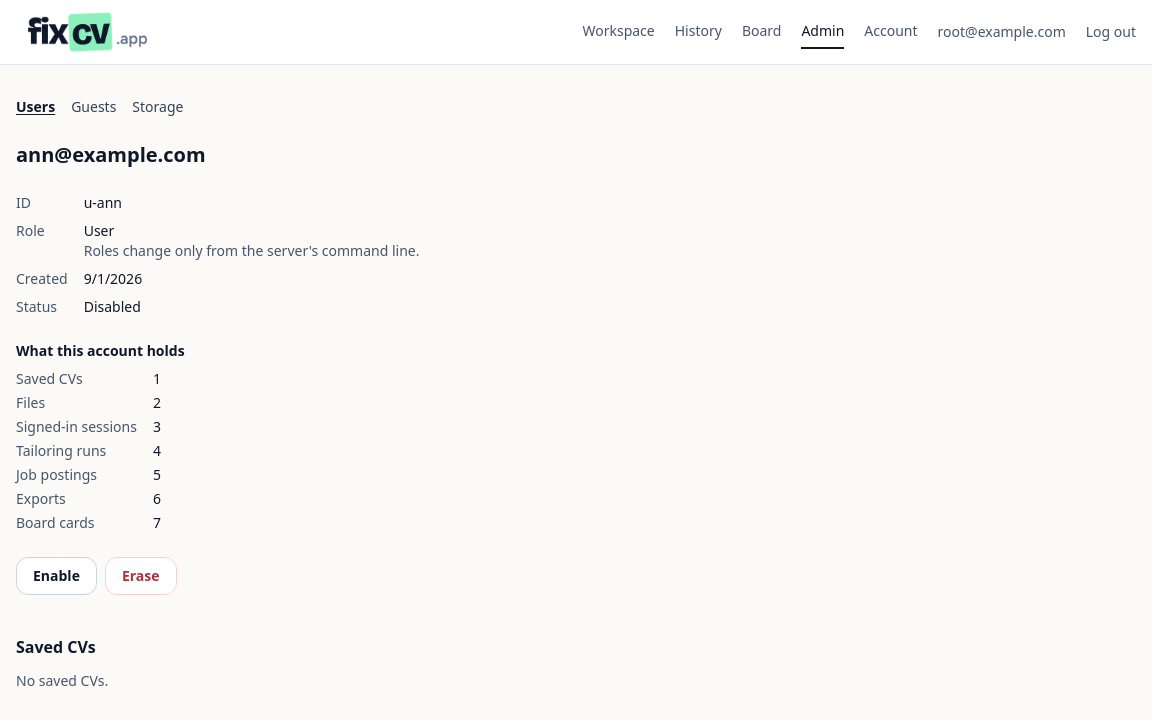
Test: Disable and enable — AC-34 › Enable asks no confirmation: one click, one POST, the status reads Active again
The image size is (1152, 720).
Click the button "Enable".
click(56, 576)  # box left=16, top=557, right=97, bottom=595
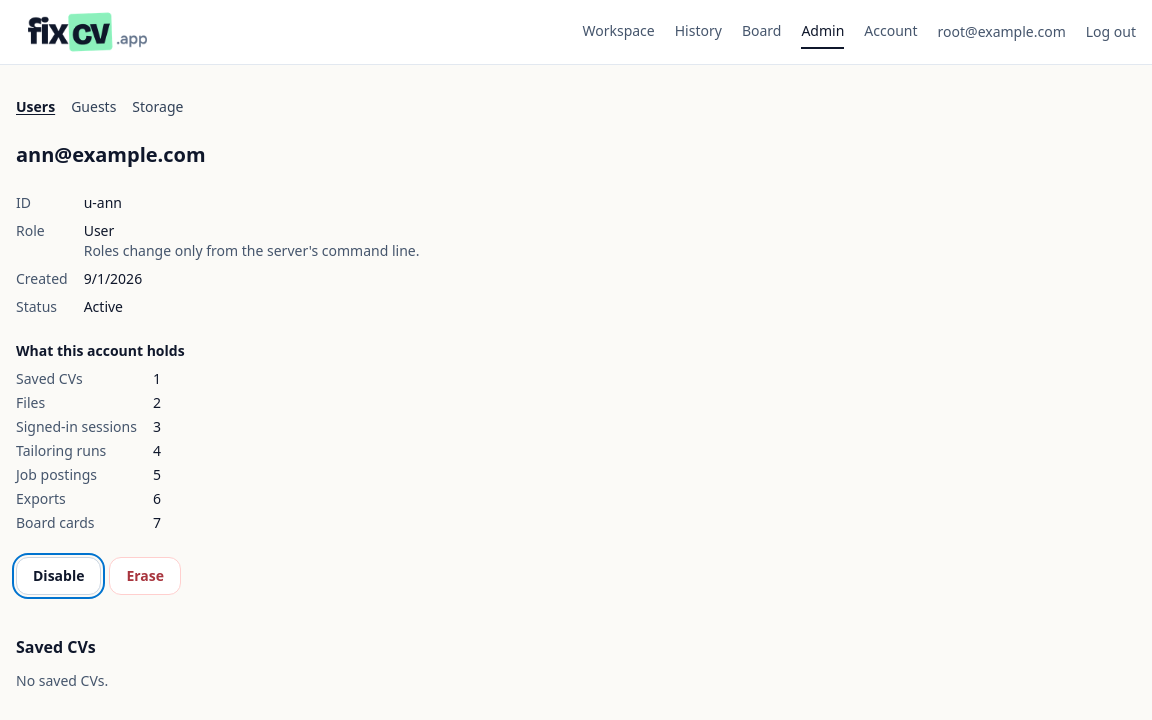
Expected: the text "Active" is shown, left=84, top=297, right=123, bottom=316
